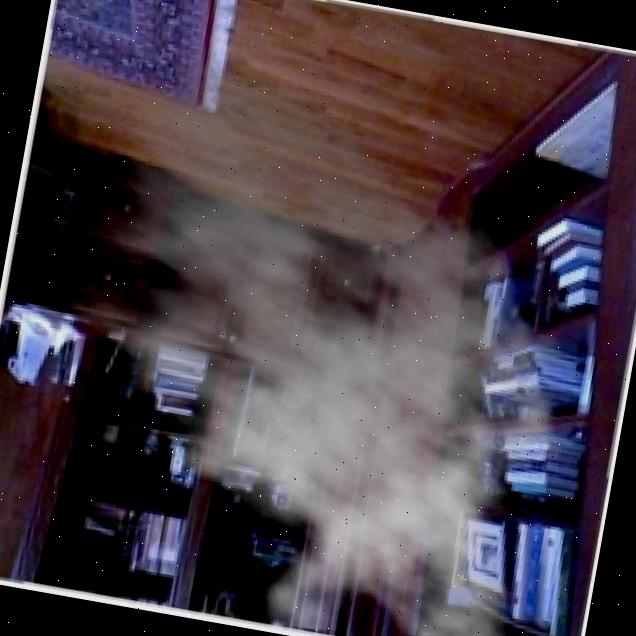smoke: (0, 32, 636, 636)
